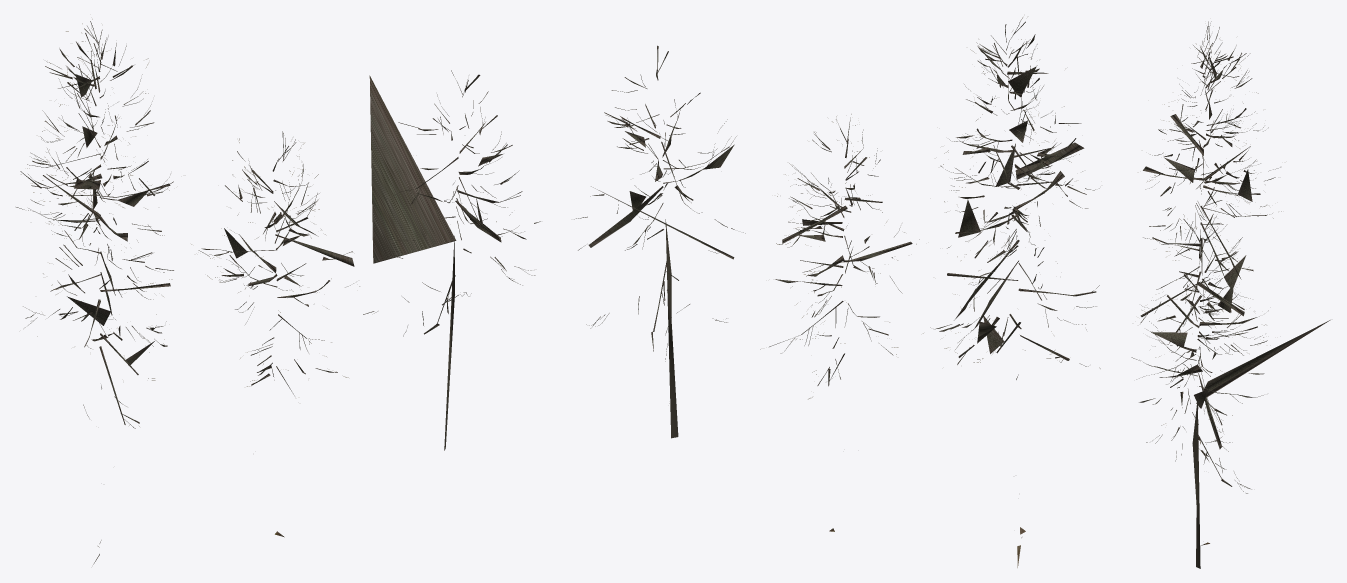
File: fir_tree_01_lod1.glb
The picture shows the model from 3 angles, left to right: view 1: azimuth 30°, elevation 25°; view 2: azimuth 150°, elevation 25°; view 3: azimuth 270°, elevation 25°; orthographic projection. The views are drawn at different scales.
Visible parts, largest first — view 1: fir_tree_01_a_LOD0; view 2: fir_tree_01_a_LOD0; view 3: fir_tree_01_a_LOD0.
Part boxes in pixels (bbox=[...]): fir_tree_01_a_LOD0: bbox=[16, 19, 540, 564]; fir_tree_01_a_LOD0: bbox=[574, 17, 1100, 567]; fir_tree_01_a_LOD0: bbox=[1131, 21, 1330, 568].
Size of the model in its own units: 17.55 by 18.41 by 7.43.
Materials: 6 (6 with a texture image).
